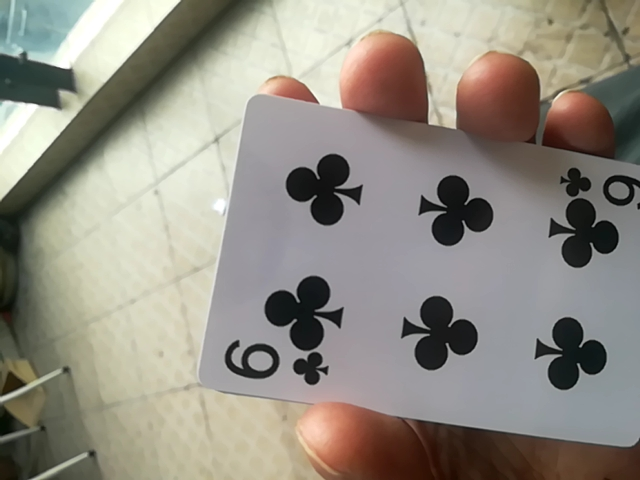mh 6: (201, 92, 639, 461)
